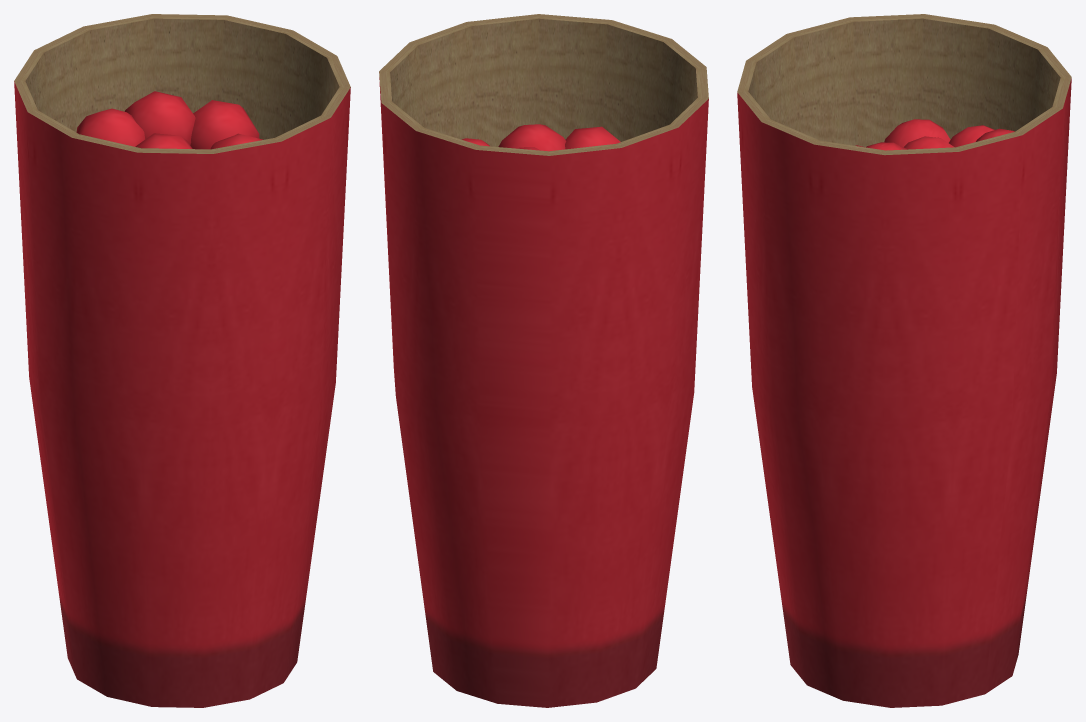
Rendered from ClownNoses.fbx.
The picture shows the model from 3 angles, left to right: view 1: azimuth 30°, elevation 25°; view 2: azimuth 150°, elevation 25°; view 3: azimuth 270°, elevation 25°; orthographic projection.
Visible parts, largest first — view 1: BasketNoses, Clown_Noses; view 2: BasketNoses, Clown_Noses; view 3: BasketNoses, Clown_Noses.
Boxes of the visible parts, <box> form: BasketNoses: <box>14,14,350,707</box>; Clown_Noses: <box>76,91,263,149</box>; BasketNoses: <box>379,14,708,707</box>; Clown_Noses: <box>462,124,620,151</box>; BasketNoses: <box>737,14,1071,707</box>; Clown_Noses: <box>855,119,1014,150</box>.
Bounding box in the file's own units: 0.7617 × 1.45 × 0.7629.
